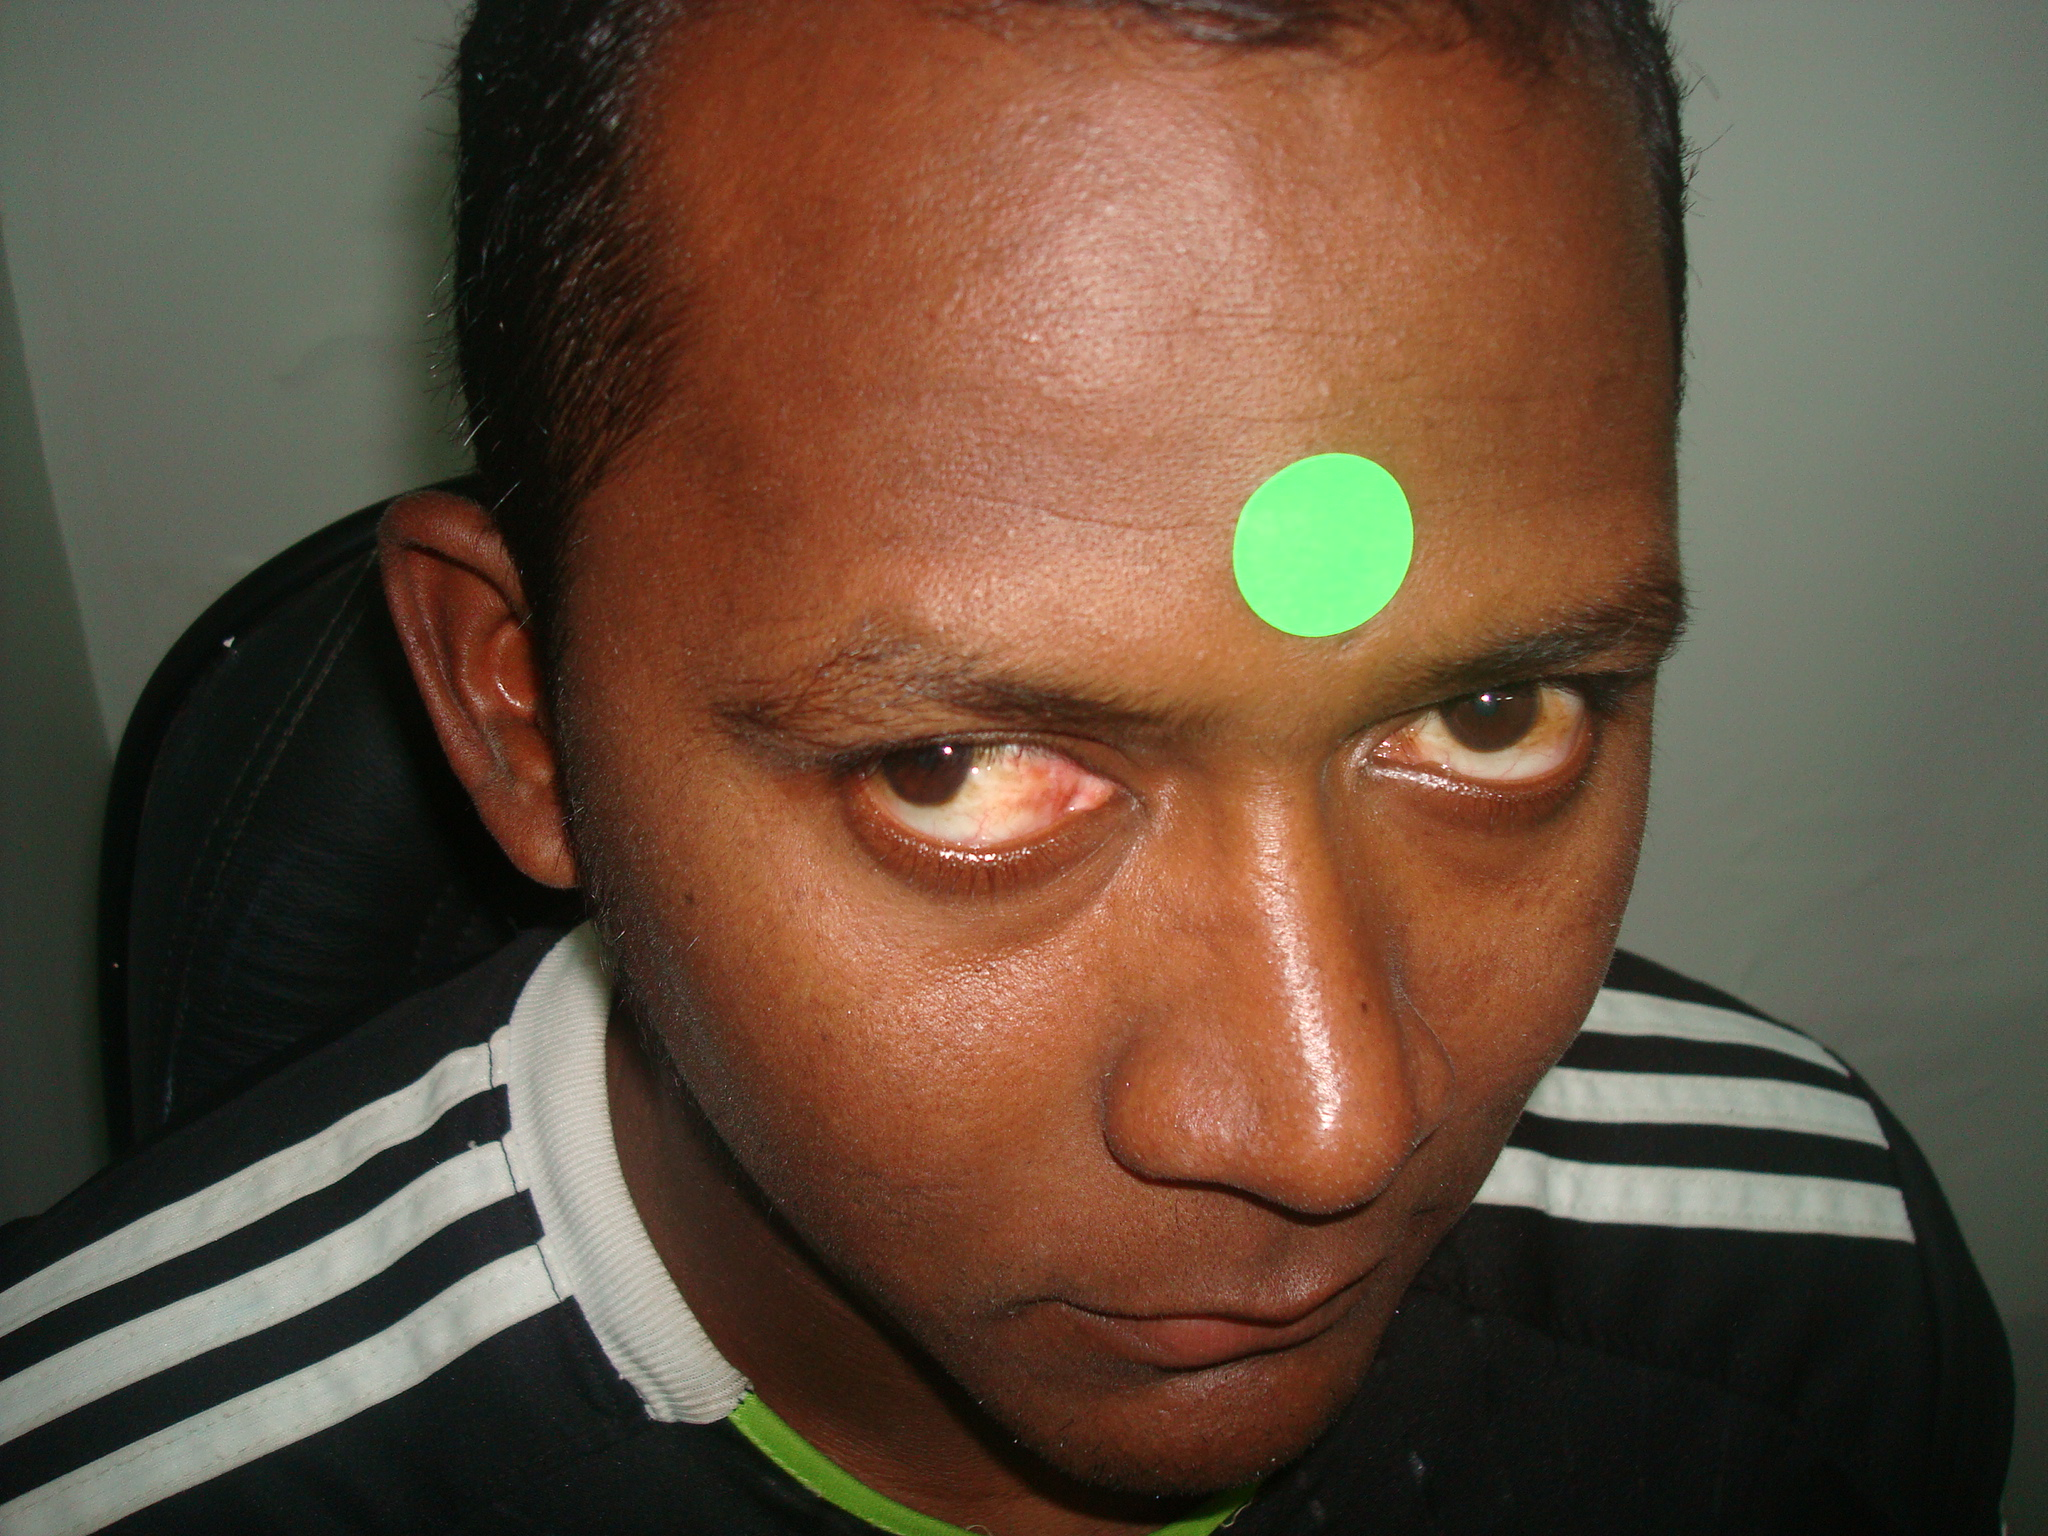flash: (940, 742, 955, 758), (1479, 691, 1492, 705)
limbo: (1435, 658, 1534, 750), (882, 716, 968, 794)
